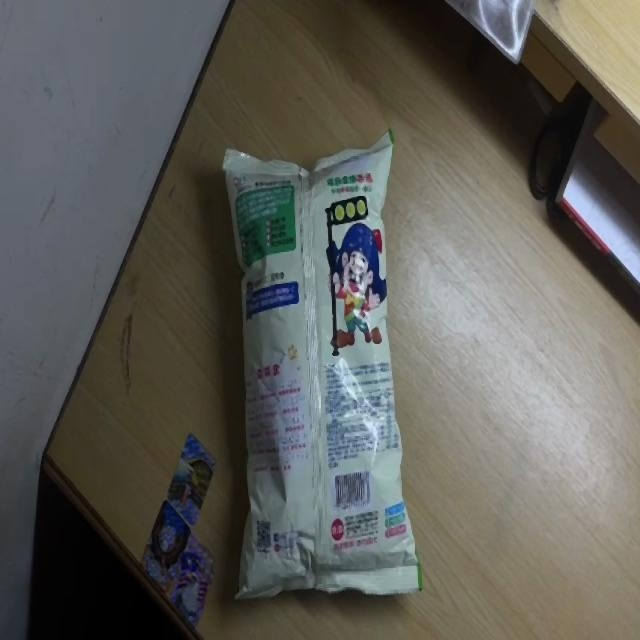Good-Luck: (221, 123, 423, 605)
